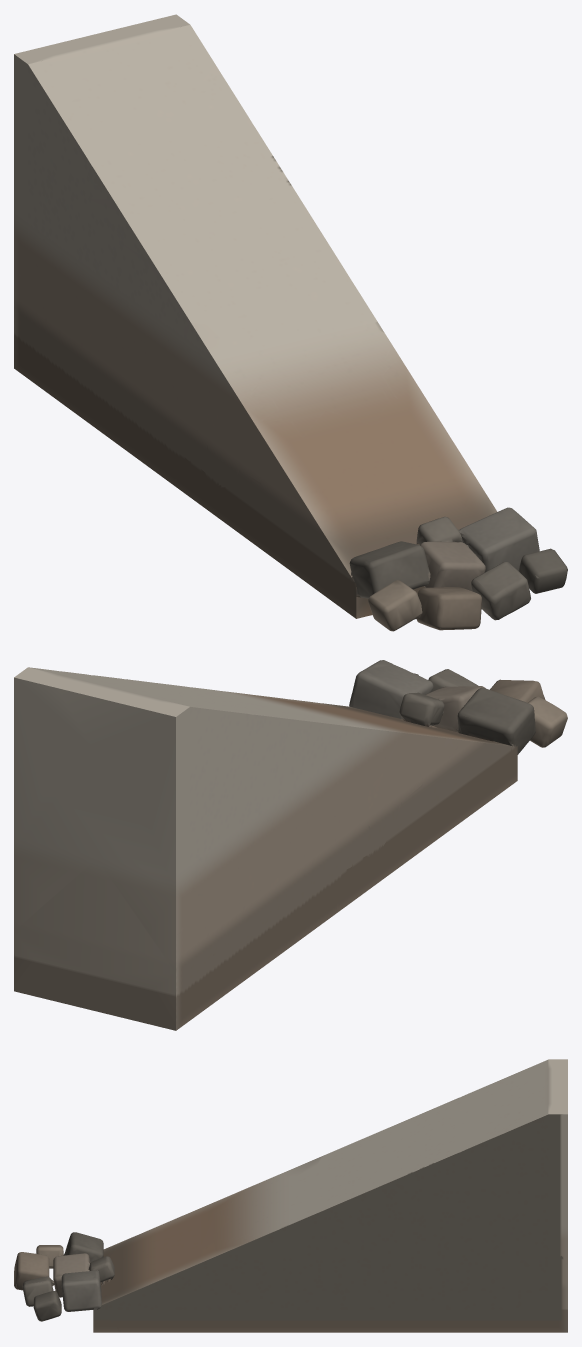
The model's file is ke_ha_long.glb.
The picture shows the model from 3 angles, top to bottom: view 1: azimuth 30°, elevation 25°; view 2: azimuth 150°, elevation 25°; view 3: azimuth 270°, elevation 25°; orthographic projection. The views are drawn at different scales.
Parts seen in each view (by area): view 1: drawing; view 2: drawing; view 3: drawing.
Part boxes in pixels (box(x1,y1,x2,y2)): drawing: box(14, 14, 567, 631); drawing: box(14, 660, 567, 1030); drawing: box(14, 1059, 567, 1332).
Bounding box in the file's own units: 2.26 × 3.7 × 8.52.
2 materials, 2 textured.
